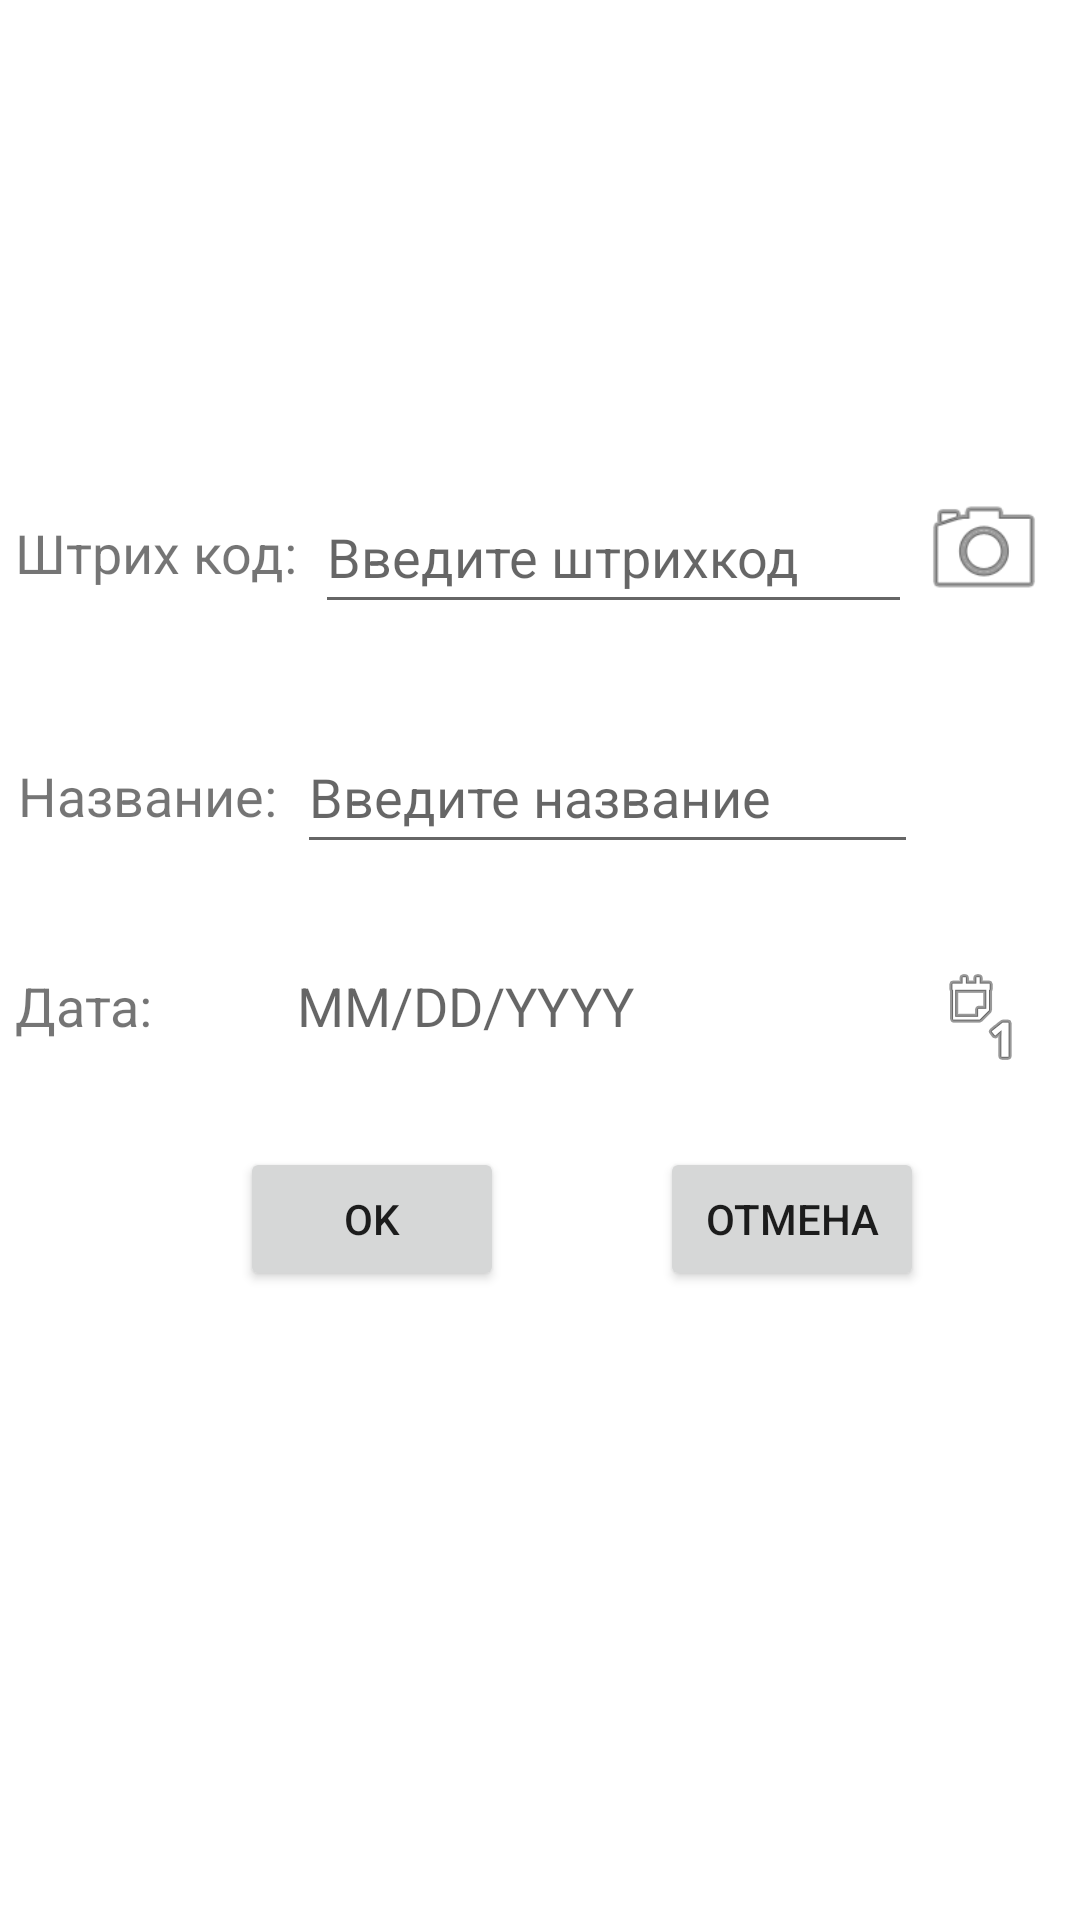

Icon click points for this 1080x1920 phone screenshot, format (x=x, y=y):
camera: (x=984, y=547)
day: (x=980, y=1017)
